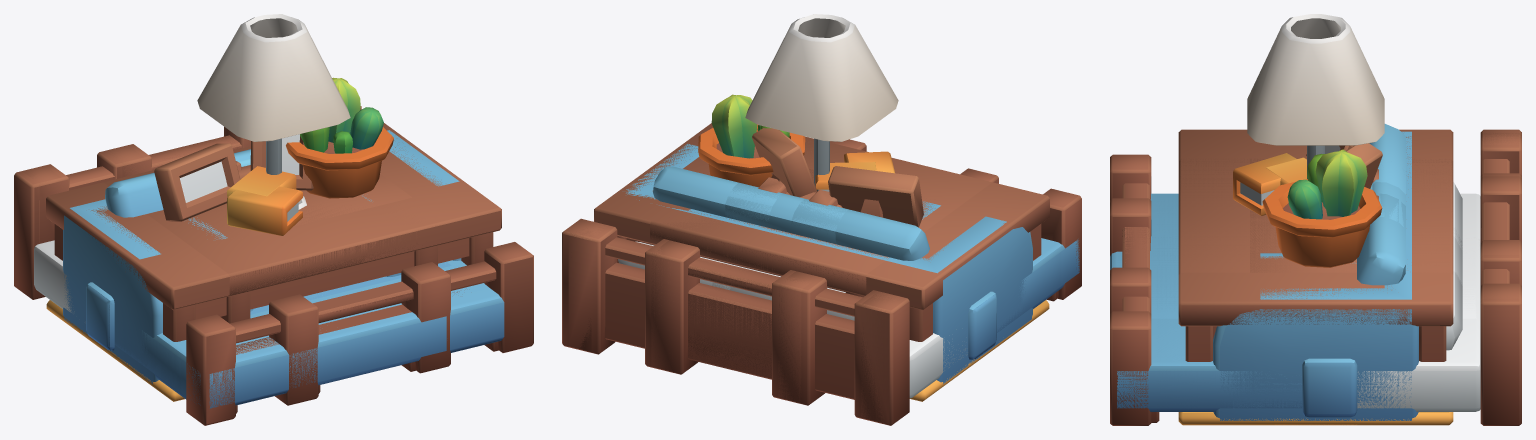
File: kaykit_furn.glb
The picture shows the model from 3 angles, left to right: view 1: azimuth 30°, elevation 25°; view 2: azimuth 150°, elevation 25°; view 3: azimuth 270°, elevation 25°; orthographic projection. The views are drawn at different scales.
Parts seen in each view (by area): view 1: table_medium_long, bed_double_B, table_medium, bed_double_A, lamp_standing, couch, cabinet_medium_decorated, bed_single_B, bed_single_A, cabinet_small_decorated, cabinet_medium, rug_rectangle_A; view 2: bed_double_B, bed_double_A, couch, lamp_standing, bed_single_A, table_medium_long, table_medium, cabinet_medium_decorated, bed_single_B, armchair, cabinet_small_decorated, rug_rectangle_A (+1 smaller); view 3: table_medium_long, couch, bed_double_A, bed_double_B, lamp_standing, table_medium, cabinet_medium_decorated, bed_single_B, bed_single_A, cabinet_small_decorated, cabinet_medium, rug_rectangle_A (+2 smaller).
Boxes of the visible parts, <box> form: table_medium_long: <box>46,123,501,341</box>; bed_double_B: <box>14,106,533,425</box>; table_medium: <box>104,146,445,323</box>; bed_double_A: <box>22,135,504,413</box>; lamp_standing: <box>197,14,350,174</box>; couch: <box>63,130,461,383</box>; cabinet_medium_decorated: <box>154,77,393,221</box>; bed_single_B: <box>97,136,450,405</box>; bed_single_A: <box>106,127,446,393</box>; cabinet_small_decorated: <box>227,134,313,235</box>; cabinet_medium: <box>206,174,412,238</box>; rug_rectangle_A: <box>46,300,184,401</box>; bed_double_B: <box>562,188,1081,425</box>; bed_double_A: <box>568,224,1079,422</box>; couch: <box>626,144,1032,383</box>; lamp_standing: <box>745,14,898,190</box>; bed_single_A: <box>651,240,812,402</box>; table_medium_long: <box>594,123,1049,341</box>; table_medium: <box>650,136,991,297</box>; cabinet_medium_decorated: <box>698,94,923,227</box>; bed_single_B: <box>645,139,998,405</box>; armchair: <box>688,182,940,249</box>; cabinet_small_decorated: <box>752,128,894,197</box>; rug_rectangle_A: <box>909,300,1049,401</box>; table_medium_long: <box>1178,129,1453,361</box>; couch: <box>1213,124,1418,420</box>; bed_double_A: <box>1110,132,1521,422</box>; bed_double_B: <box>1110,129,1521,425</box>; lamp_standing: <box>1247,14,1384,178</box>; table_medium: <box>1178,158,1453,274</box>; cabinet_medium_decorated: <box>1262,145,1382,267</box>; bed_single_B: <box>1110,173,1521,318</box>; bed_single_A: <box>1110,176,1521,318</box>; cabinet_small_decorated: <box>1233,143,1382,215</box>; cabinet_medium: <box>1250,159,1356,272</box>; rug_rectangle_A: <box>1178,412,1453,425</box>.
Bounding box in the file's own units: 2.17 × 1.77 × 2.1.
1 material, 1 textured.
